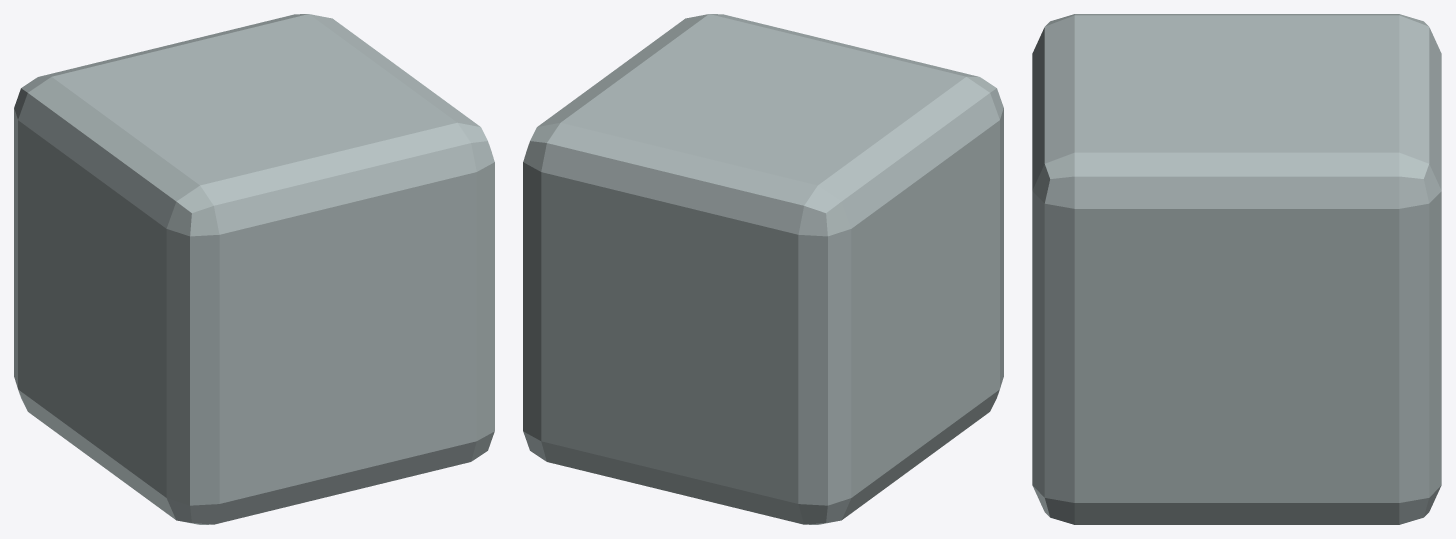
File: cubeZero.glb
The picture shows the model from 3 angles, left to right: view 1: azimuth 30°, elevation 25°; view 2: azimuth 150°, elevation 25°; view 3: azimuth 270°, elevation 25°; orthographic projection. The views are drawn at different scales.
Parts seen in each view (by area): view 1: Cube; view 2: Cube; view 3: Cube.
Part boxes in pixels (<box>): Cube: <box>14,14,494,524</box>; Cube: <box>523,14,1003,524</box>; Cube: <box>1032,14,1441,524</box>.
Size of the model in its own units: 2 by 2 by 2.
1 material, 1 textured.
